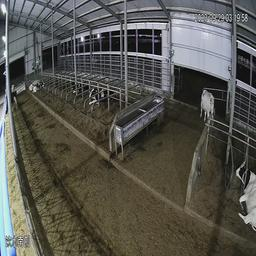cow: (232, 153, 255, 238), (198, 80, 214, 127), (87, 84, 109, 110), (2, 86, 18, 114), (28, 78, 49, 97)
